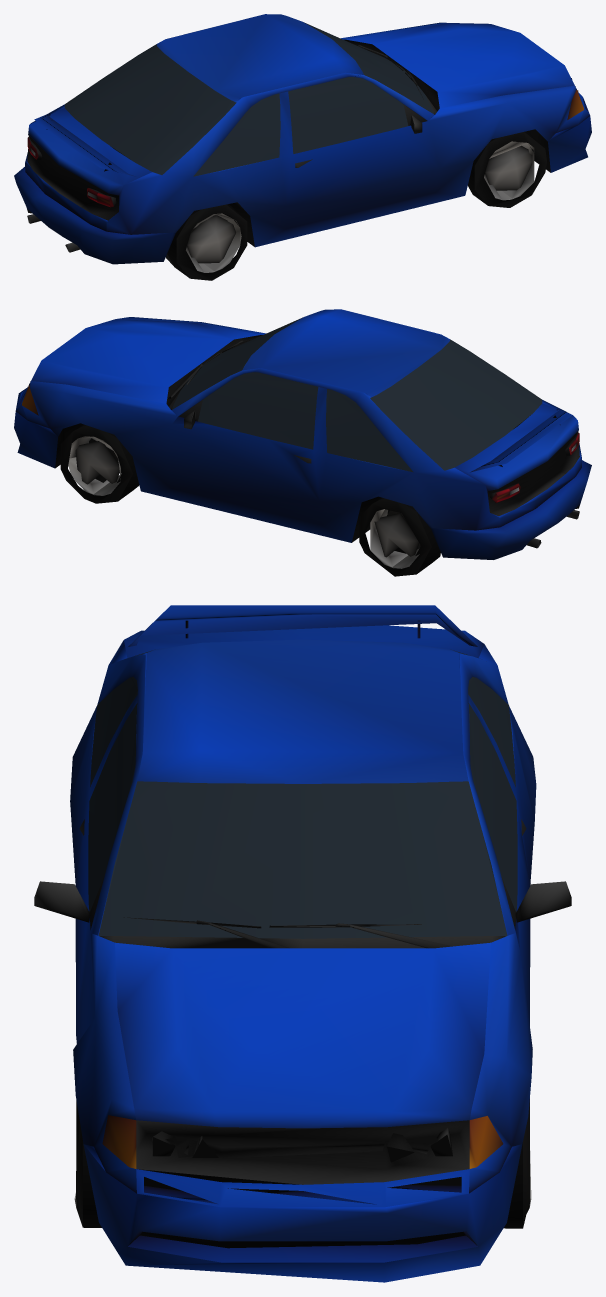
The model's file is coupe.glb.
The picture shows the model from 3 angles, top to bottom: view 1: azimuth 30°, elevation 25°; view 2: azimuth 150°, elevation 25°; view 3: azimuth 270°, elevation 25°; orthographic projection. The views are drawn at different scales.
Visible parts, largest first — view 1: coupe; view 2: coupe; view 3: coupe.
Part boxes in pixels (box(x1,y1,x2,y2)): coupe: box(14, 14, 591, 280); coupe: box(14, 309, 591, 576); coupe: box(34, 605, 571, 1282).
Bounding box in the file's own units: 4.56 × 1.38 × 2.04.
